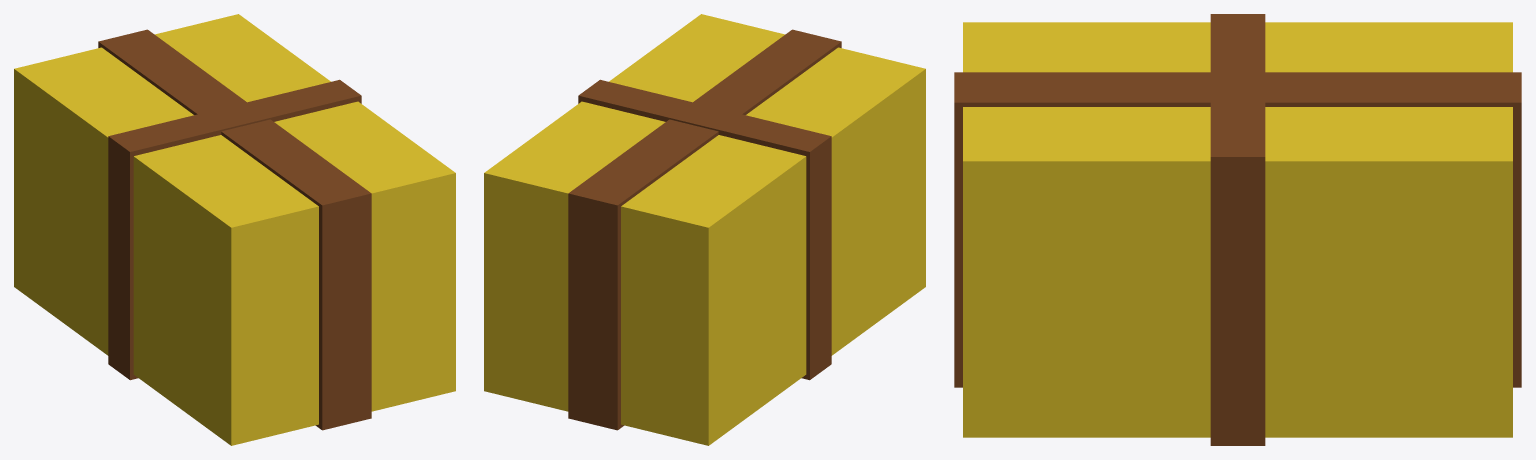
File: hay2.fbx
3 views of the same model, side by side, from view 1: azimuth 30°, elevation 25°; view 2: azimuth 150°, elevation 25°; view 3: azimuth 270°, elevation 25° (orthographic). The views are drawn at different scales.
Parts seen in each view (by area): view 1: Cube, Cube.001, Cube.002; view 2: Cube, Cube.001, Cube.002; view 3: Cube, Cube.002, Cube.001.
Boxes of the visible parts, bbox=[...] form: Cube: bbox=[14, 14, 455, 445]; Cube.001: bbox=[98, 29, 371, 430]; Cube.002: bbox=[108, 79, 361, 380]; Cube: bbox=[484, 14, 925, 445]; Cube.001: bbox=[568, 29, 841, 430]; Cube.002: bbox=[578, 79, 831, 380]; Cube: bbox=[963, 22, 1512, 437]; Cube.002: bbox=[1210, 14, 1265, 445]; Cube.001: bbox=[954, 72, 1521, 387].
Size of the model in its own units: 231 by 217 by 387.
